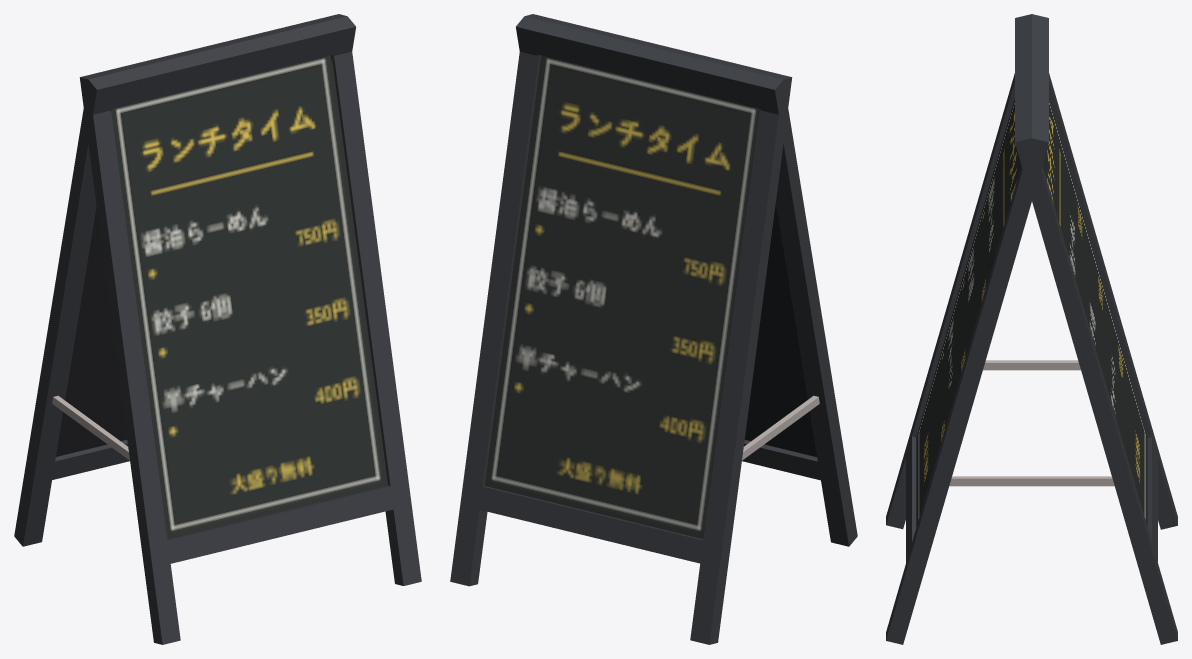
File: SM_Street_ShopAFrame_Black_Ramen_01.fbx
3 renders of one model, left to right at view 1: azimuth 30°, elevation 25°; view 2: azimuth 150°, elevation 25°; view 3: azimuth 270°, elevation 25°, orthographic.
Parts seen in each view (by area): view 1: SM_Street_ShopAFrame_Black_Ramen_01; view 2: SM_Street_ShopAFrame_Black_Ramen_01; view 3: SM_Street_ShopAFrame_Black_Ramen_01.
Boxes of the visible parts, <box> form: SM_Street_ShopAFrame_Black_Ramen_01: <box>14,14,421,644</box>; SM_Street_ShopAFrame_Black_Ramen_01: <box>450,14,857,644</box>; SM_Street_ShopAFrame_Black_Ramen_01: <box>886,14,1177,644</box>.
Size of the model in its own units: 0.5 by 0.95 by 0.496.
Materials: 1 (1 with a texture image).
